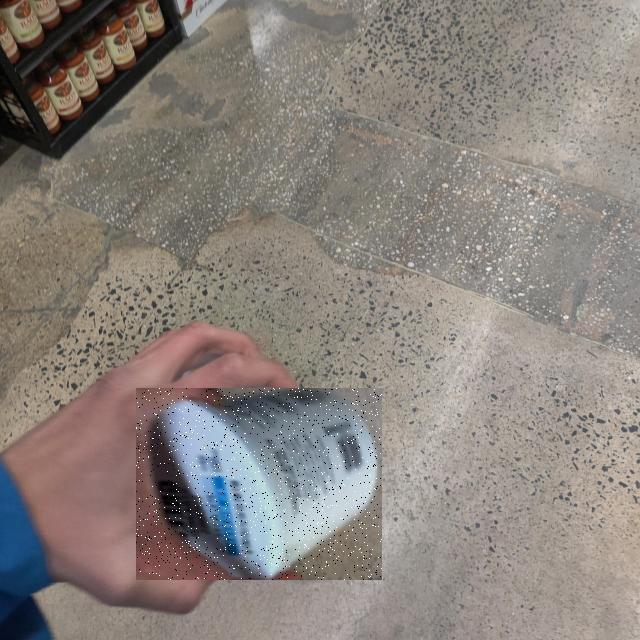Yoghurt: (137, 388, 383, 580)
